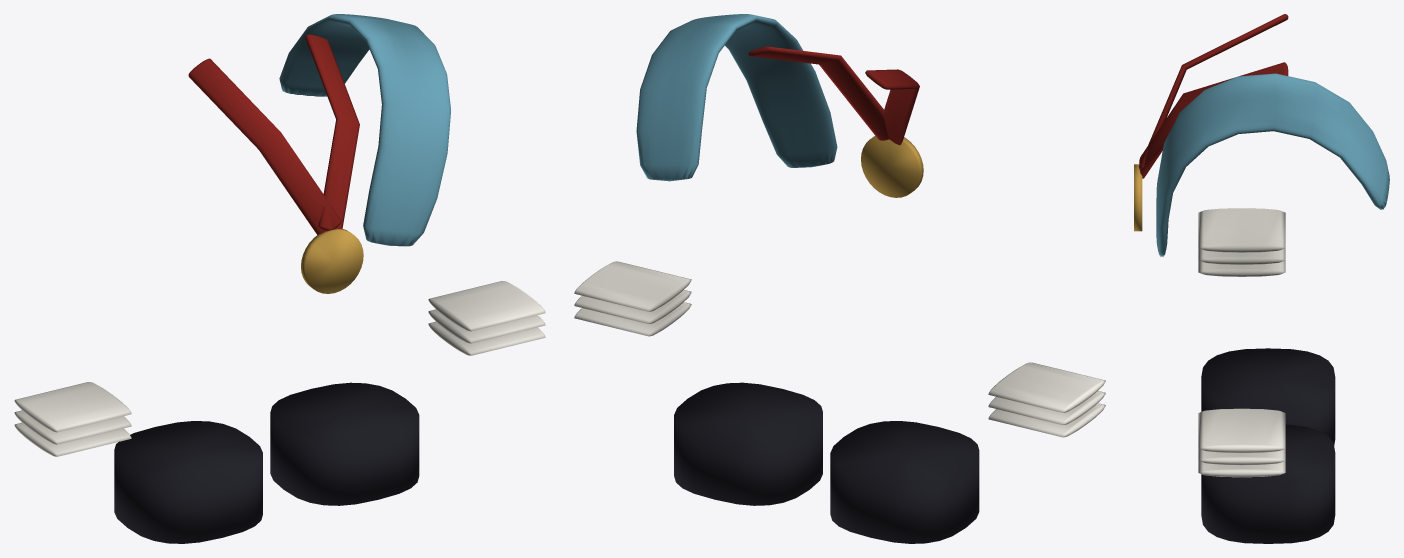
File: extras.glb
3 renders of one model, left to right at view 1: azimuth 30°, elevation 25°; view 2: azimuth 150°, elevation 25°; view 3: azimuth 270°, elevation 25°, orthographic.
Parts seen in each view (by area): view 1: x_towel, x_kneeL, x_kneeR, x_ribbon, x_tapeL, x_tapeR, x_medal; view 2: x_towel, x_kneeR, x_kneeL, x_tapeR, x_tapeL, x_ribbon, x_medal; view 3: x_towel, x_kneeL, x_kneeR, x_tapeR, x_tapeL, x_ribbon, x_medal.
Part boxes in pixels (<box>): x_towel: <box>279,14,450,246</box>; x_kneeL: <box>270,382,419,505</box>; x_kneeR: <box>114,421,262,543</box>; x_ribbon: <box>188,34,359,234</box>; x_tapeL: <box>428,281,545,355</box>; x_tapeR: <box>14,382,131,456</box>; x_medal: <box>301,228,363,293</box>; x_towel: <box>636,14,837,181</box>; x_kneeR: <box>830,421,979,543</box>; x_kneeL: <box>674,382,822,505</box>; x_tapeR: <box>988,362,1105,437</box>; x_tapeL: <box>574,261,691,336</box>; x_ribbon: <box>748,46,919,145</box>; x_medal: <box>861,136,923,197</box>; x_towel: <box>1156,73,1389,256</box>; x_kneeL: <box>1201,424,1335,543</box>; x_kneeR: <box>1201,348,1335,445</box>; x_tapeR: <box>1198,208,1285,276</box>; x_tapeL: <box>1198,408,1285,477</box>; x_ribbon: <box>1139,14,1288,178</box>; x_medal: <box>1134,164,1142,231</box>.
Size of the model in its own units: 1.01 by 0.8801 by 0.4575.
